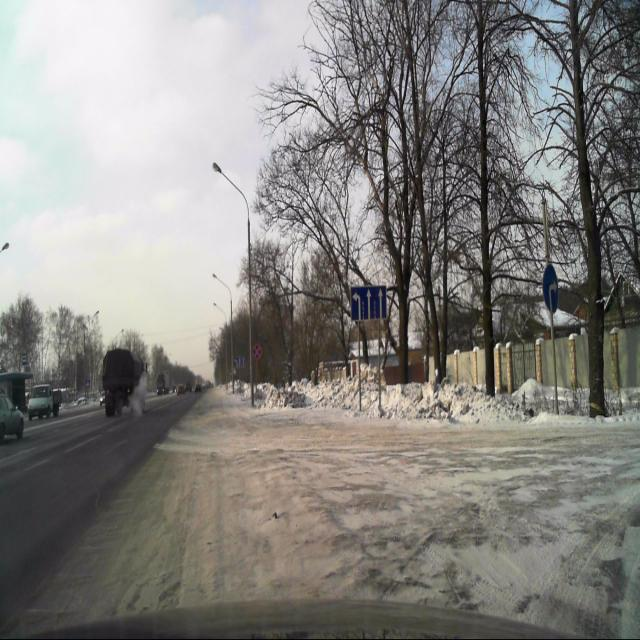road sign: (350, 286, 385, 322)
